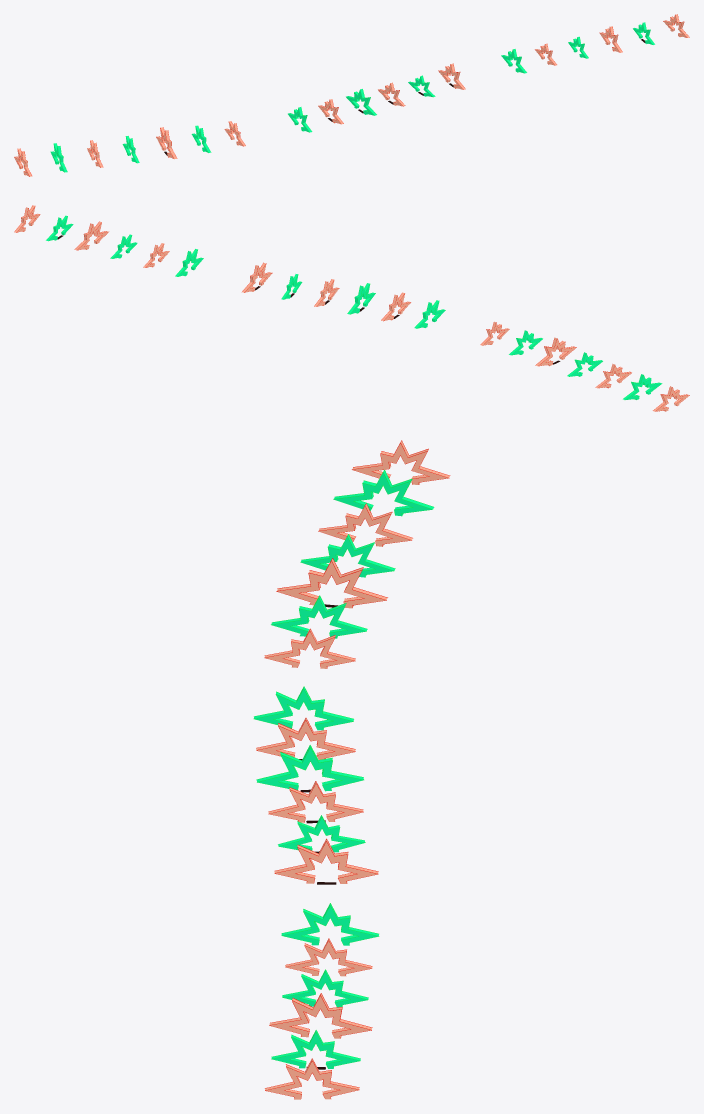
File: alumbrado_estrellas.glb
3 views of the same model, one above another, from view 1: azimuth 30°, elevation 25°; view 2: azimuth 150°, elevation 25°; view 3: azimuth 270°, elevation 25° (orthographic). The views are drawn at different scales.
Parts seen in each view (by area): view 1: estrella_camino_10, estrella_camino_05, estrella_camino_13, estrella_camino_09, estrella_camino_11, estrella_camino_17, estrella_camino_08; view 2: estrella_camino_05, estrella_camino_02, estrella_camino_17, estrella_camino_10, estrella_camino_13, estrella_camino_01, estrella_camino_09, estrella_camino_08, estrella_camino_03, estrella_camino_04, estrella_camino_06; view 3: estrella_camino_05, estrella_camino_10, estrella_camino_13, estrella_camino_17, estrella_camino_02, estrella_camino_08, estrella_camino_14, estrella_camino_09, estrella_camino_11, estrella_camino_01, estrella_camino_06, estrella_camino_19 (+7 smaller).
Boxes of the visible parts, x1,y1,x2,y2 form: estrella_camino_10: (346,89,376,115); estrella_camino_05: (156,127,177,159); estrella_camino_13: (438,63,465,89); estrella_camino_09: (318,99,343,124); estrella_camino_11: (378,82,405,106); estrella_camino_17: (599,26,622,52); estrella_camino_08: (288,107,312,132); estrella_camino_05: (535,337,576,366); estrella_camino_02: (623,374,662,399); estrella_camino_17: (74,221,108,250); estrella_camino_10: (347,283,375,314); estrella_camino_13: (242,262,272,292); estrella_camino_01: (653,386,689,411); estrella_camino_09: (381,292,410,321); estrella_camino_08: (414,300,445,328); estrella_camino_03: (595,364,631,388); estrella_camino_04: (567,352,602,376); estrella_camino_06: (509,330,542,355); estrella_camino_05: (276,558,387,608); estrella_camino_10: (256,745,363,792); estrella_camino_13: (274,838,378,884); estrella_camino_17: (269,993,372,1038); estrella_camino_02: (333,469,434,516); estrella_camino_08: (253,686,353,730); estrella_camino_14: (281,903,379,945); estrella_camino_09: (256,718,355,760); estrella_camino_11: (268,781,363,823); estrella_camino_01: (352,440,450,484); estrella_camino_06: (271,595,367,638); estrella_camino_19: (265,1058,359,1099).
Bounding box in the file's own units: 23.26 × 0.8203 × 3.12.
